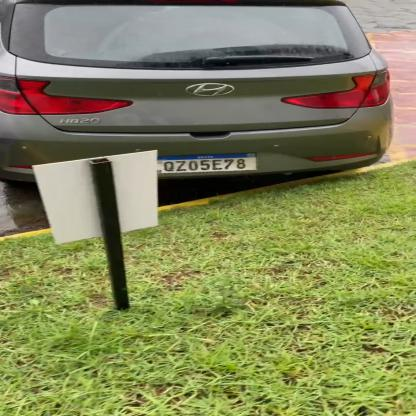Plate: (161, 153, 268, 173)
